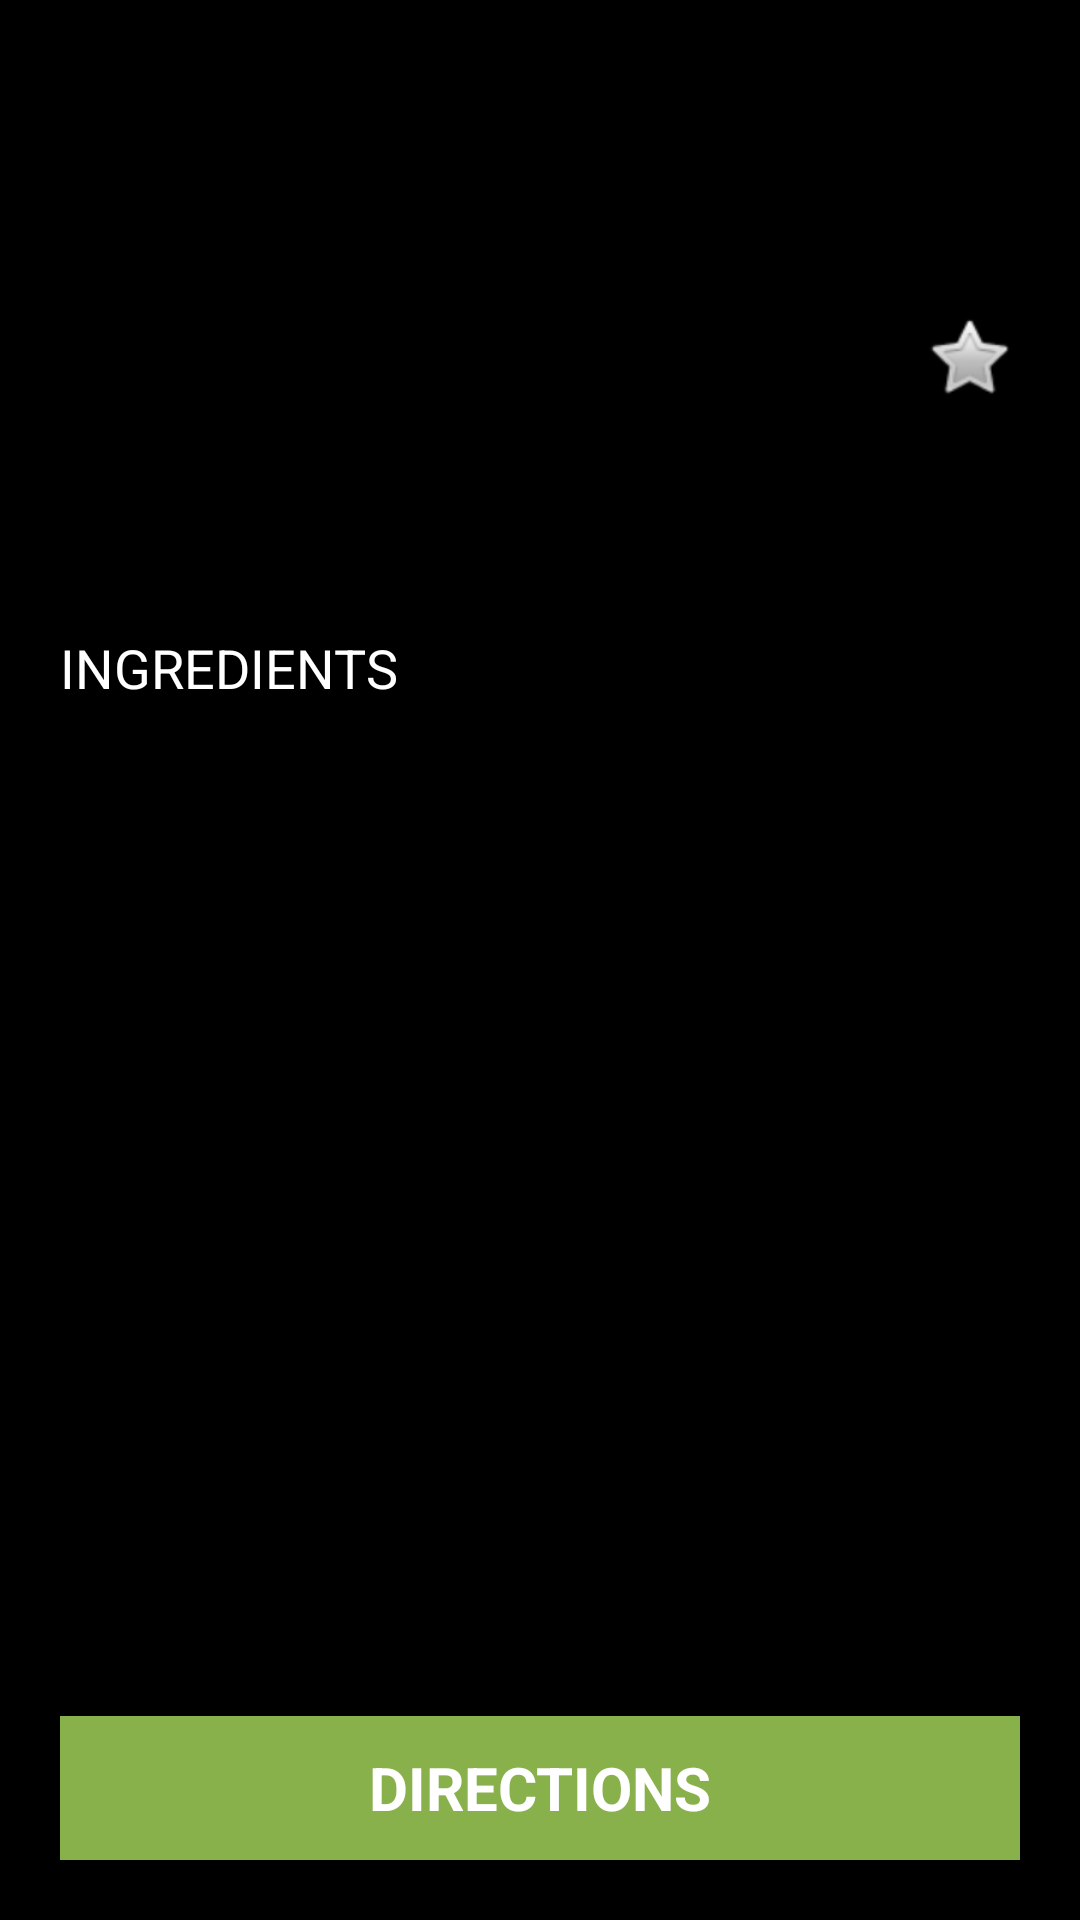

Where icons sit on this 1080×1920 app screen, as BBox(x1, y1, x2, y2):
star: BBox(931, 320, 1009, 394)
